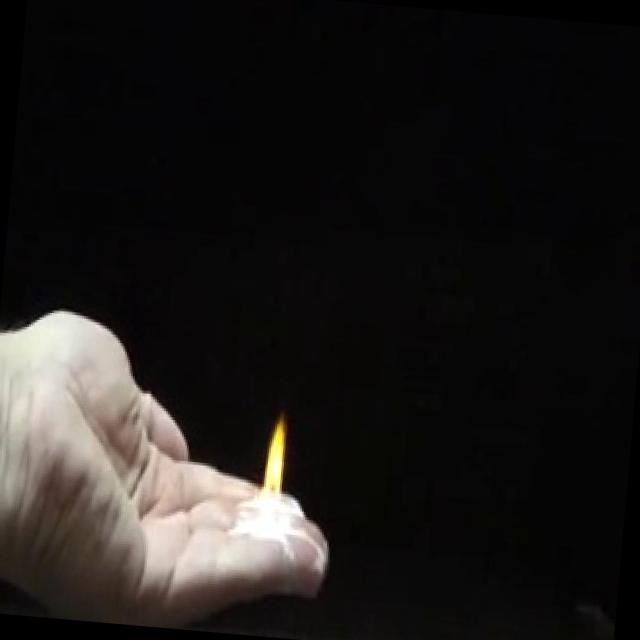Fire: (258, 407, 294, 519)
